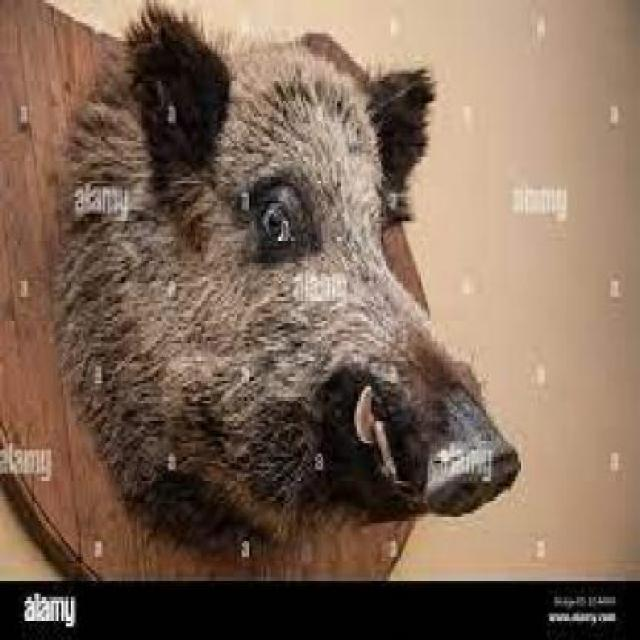wildboar: (50, 0, 523, 552)
